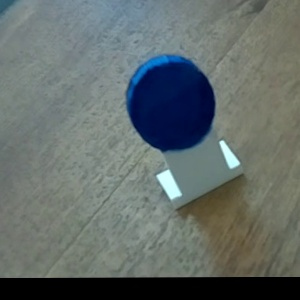circle: (115, 47, 259, 215)
